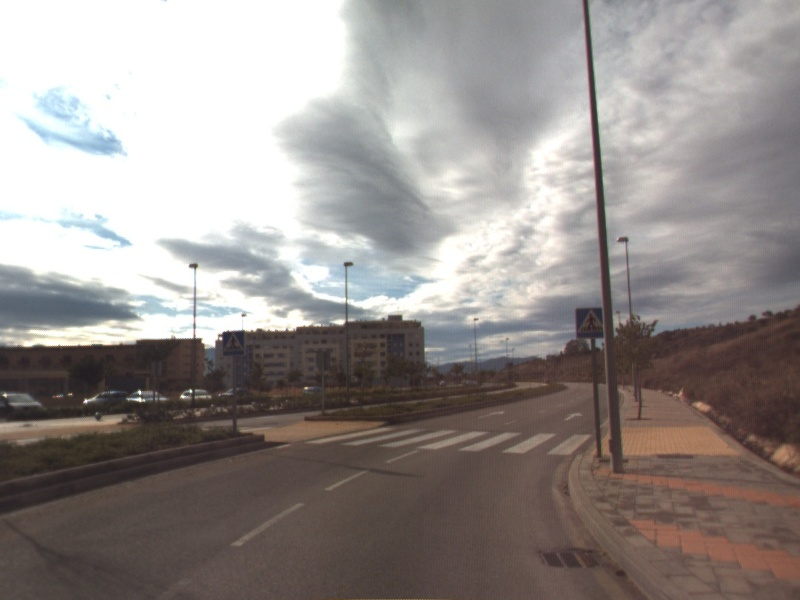STRAIGHT: (475, 408, 507, 421), (562, 410, 585, 423)
